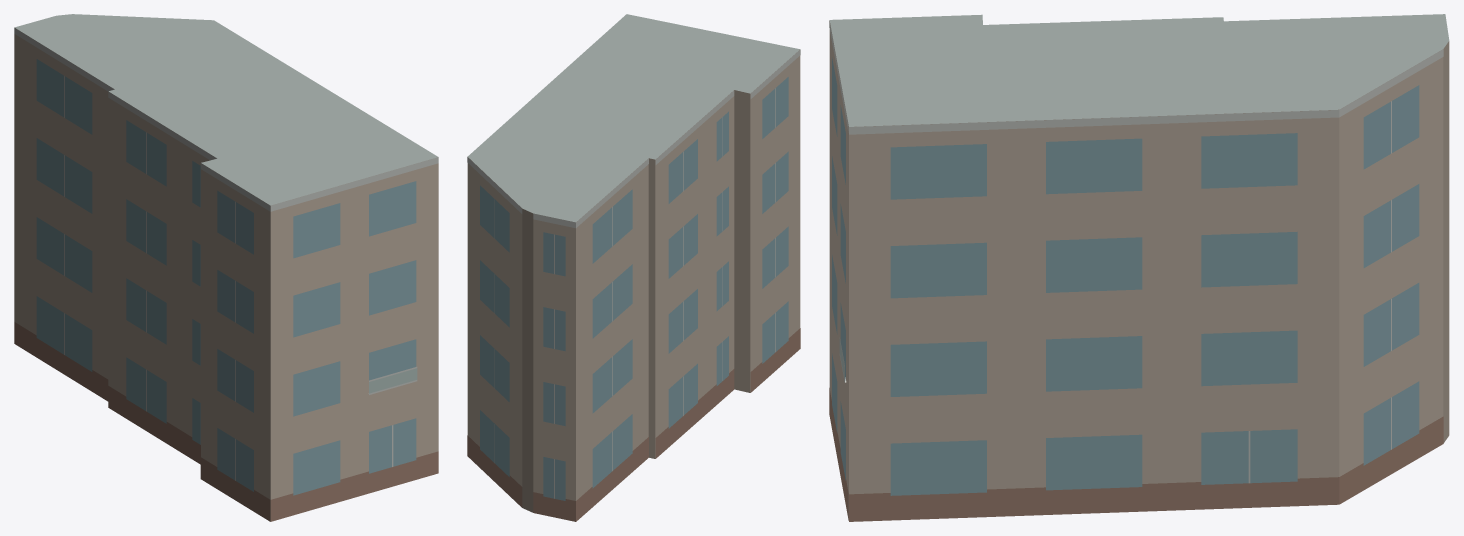
Rendered from survey-upis-33008515.glb.
3 renders of one model, left to right at view 1: azimuth 30°, elevation 25°; view 2: azimuth 150°, elevation 25°; view 3: azimuth 270°, elevation 25°, orthographic. The views are drawn at different scales.
Visible parts, largest first — view 1: survey-upis-33008515.tmp; view 2: survey-upis-33008515.tmp; view 3: survey-upis-33008515.tmp.
Boxes of the visible parts, x1,y1,x2,y2 form: survey-upis-33008515.tmp: [14, 14, 438, 521]; survey-upis-33008515.tmp: [467, 14, 800, 521]; survey-upis-33008515.tmp: [829, 14, 1449, 521].
Size of the model in its own units: 7.62 by 12.4 by 17.65.
